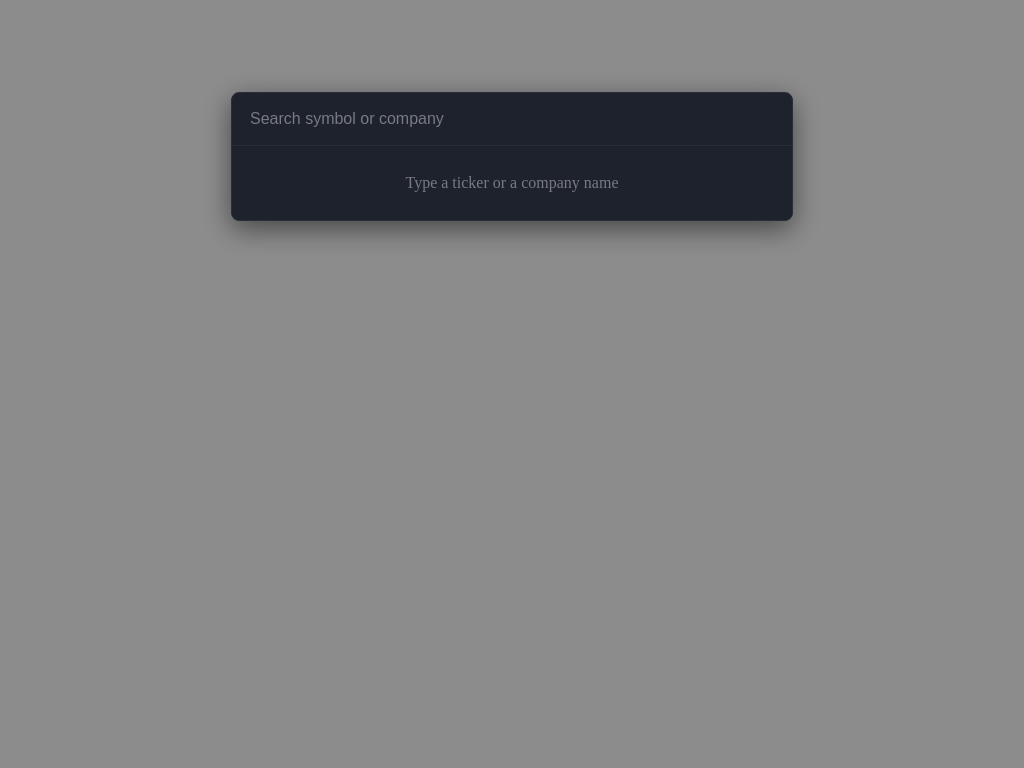
Test case: Should say when there are no results
In the field with placeholder "Search symbol or company": (512, 120) [232,93,792,146], type "zzzz"
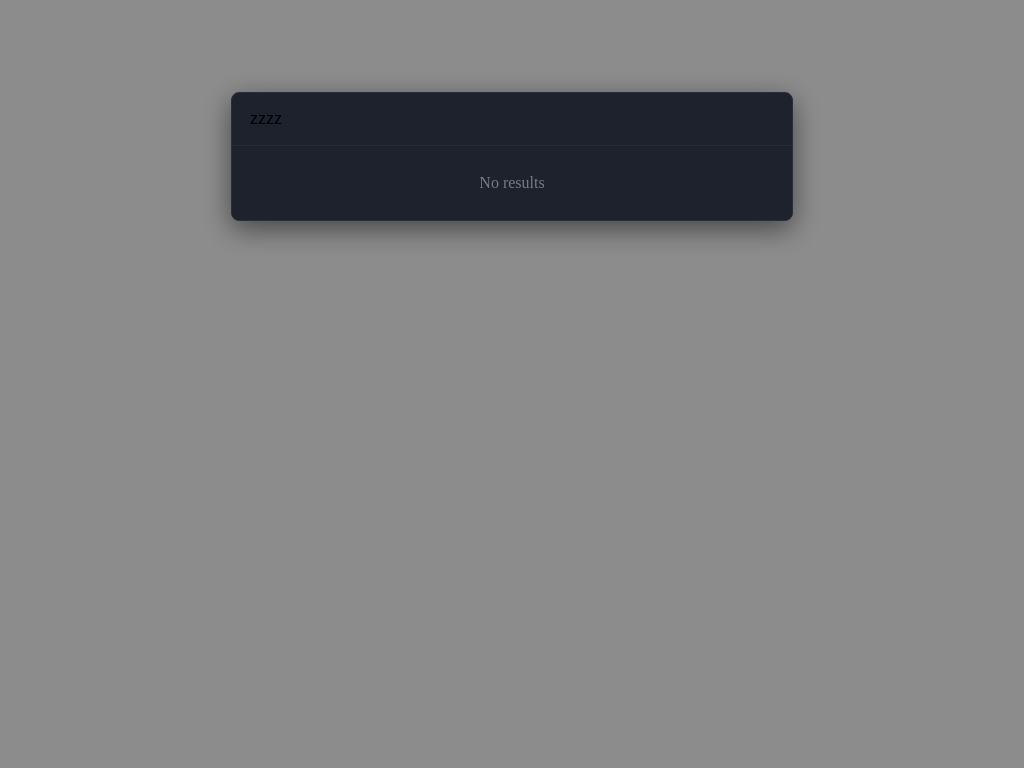
Expected: the text "No results" is shown, [479,174,545,191]
